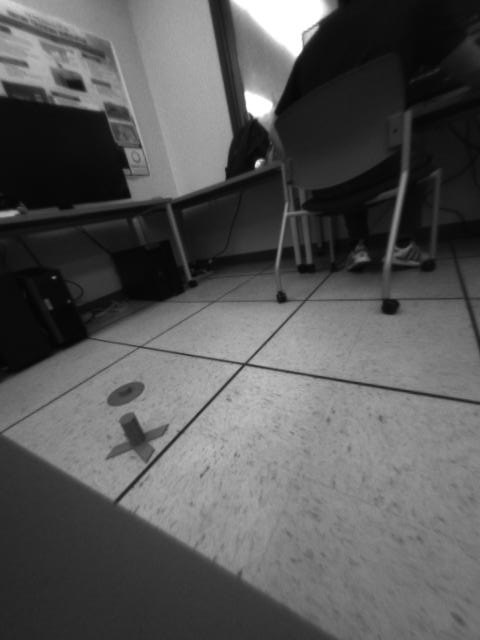X: (106, 412, 169, 462)
